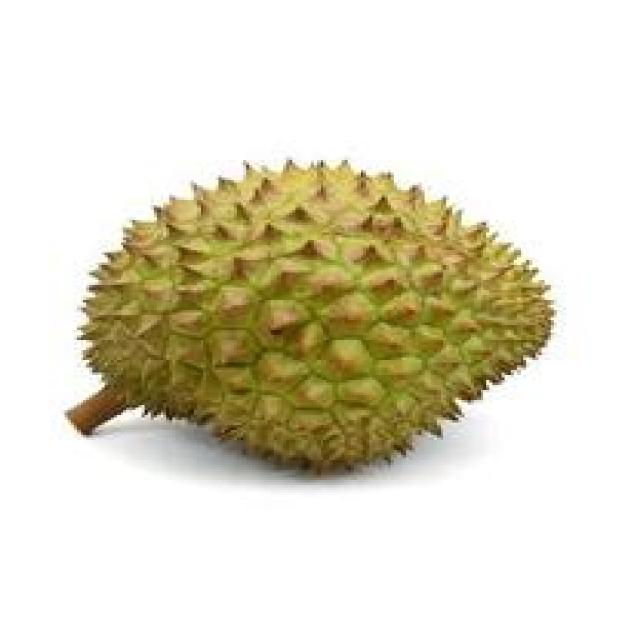fruit: (40, 117, 403, 525), (225, 132, 588, 530)
